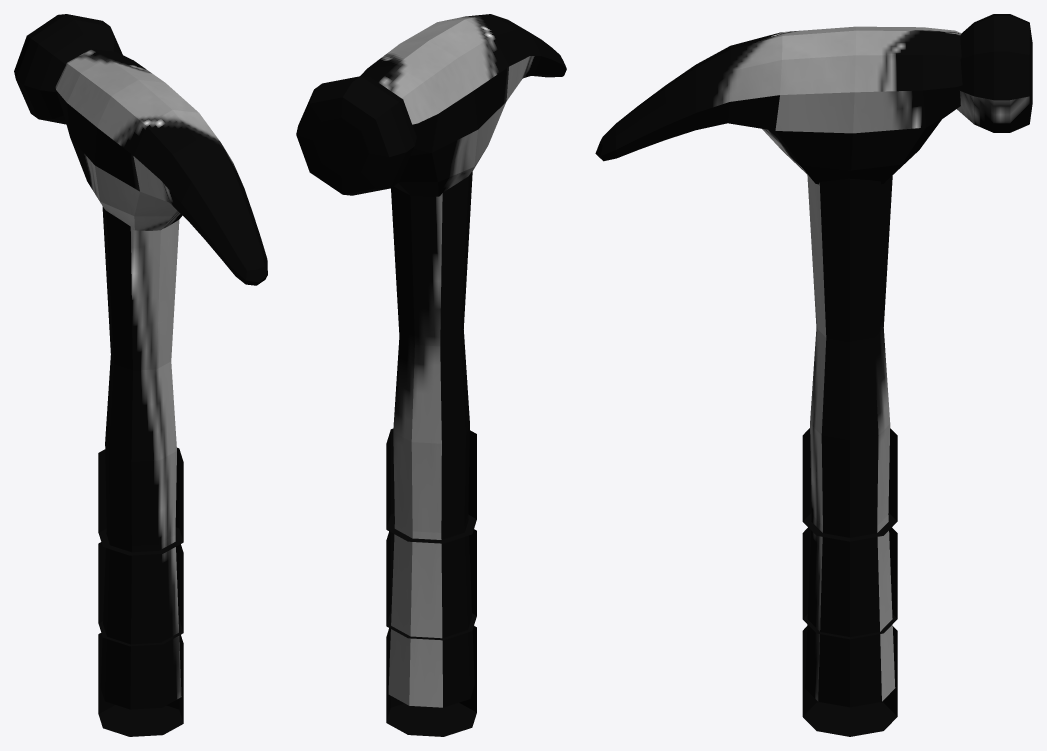
Rendered from Hammer.fbx.
3 renders of one model, left to right at view 1: azimuth 30°, elevation 25°; view 2: azimuth 150°, elevation 25°; view 3: azimuth 270°, elevation 25°, orthographic. The views are drawn at different scales.
Visible parts, largest first — view 1: Cylinder; view 2: Cylinder; view 3: Cylinder.
Part boxes in pixels (x1=…): Cylinder: x1=14, y1=14, x2=267, y2=736; Cylinder: x1=296, y1=14, x2=566, y2=736; Cylinder: x1=595, y1=14, x2=1032, y2=736.
Size of the model in its own units: 2.35 by 14.35 by 8.11.
